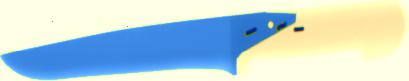Knife: (1, 1, 408, 81)
